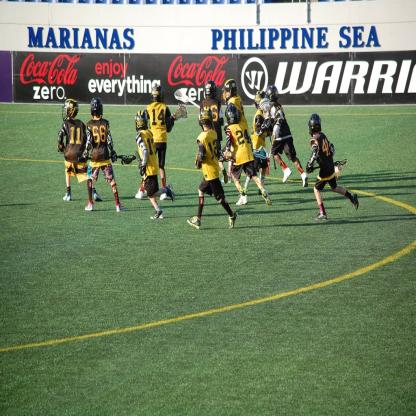Helmet: (62, 97, 80, 123), (197, 105, 215, 131), (148, 79, 166, 103), (133, 109, 149, 135), (222, 76, 238, 102), (308, 113, 323, 136), (223, 102, 238, 123), (88, 98, 102, 118), (205, 81, 219, 99), (264, 84, 277, 103), (253, 88, 267, 105)
